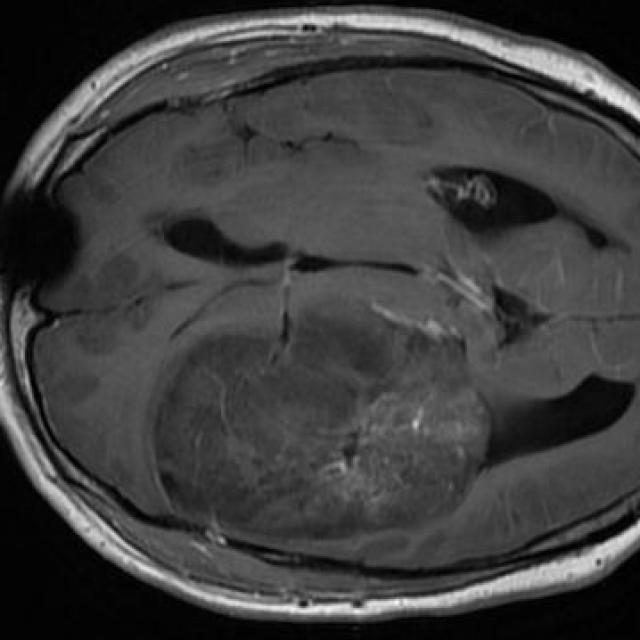glioma: (150, 312, 492, 542)
